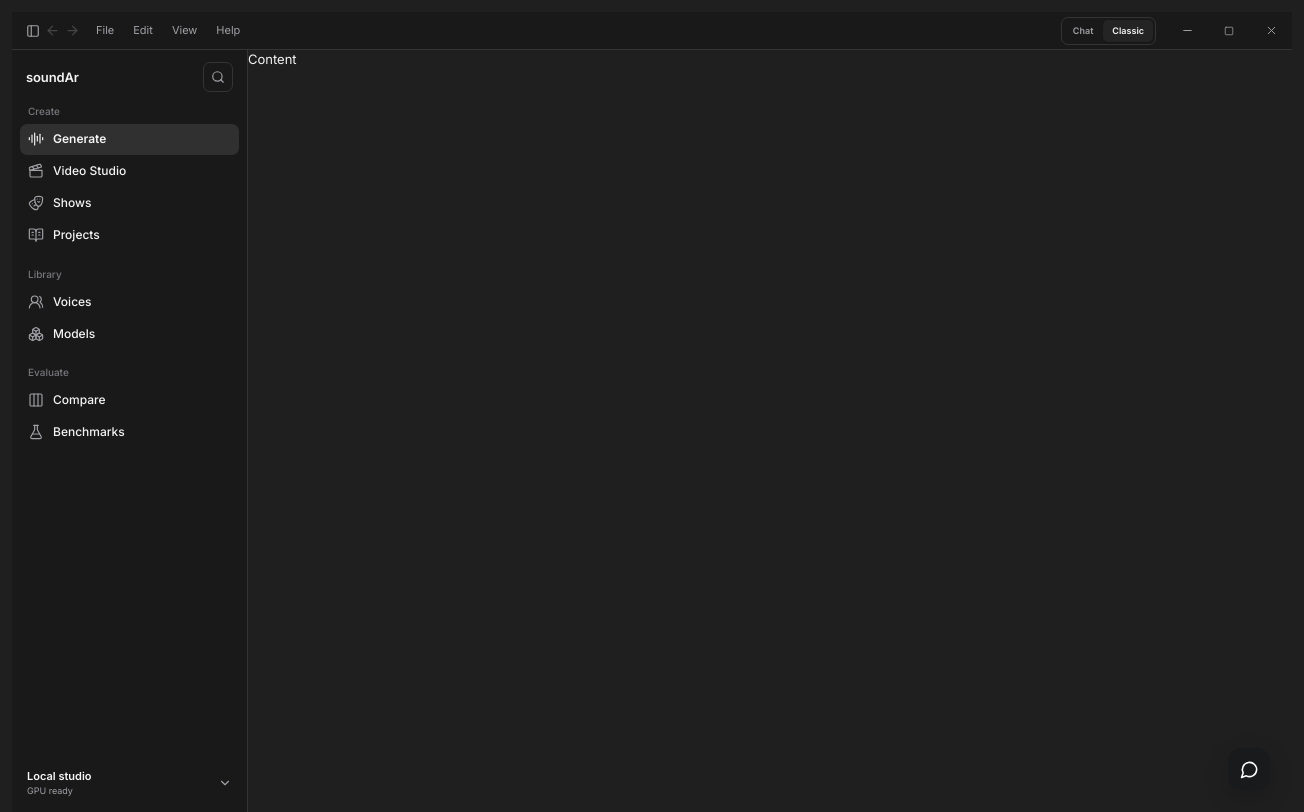
Test case: AppShell capability navigation › provides desktop menus, navigation history, and a collapsible rail
Click the button "File": click(105, 30) 88,16 -> 122,44
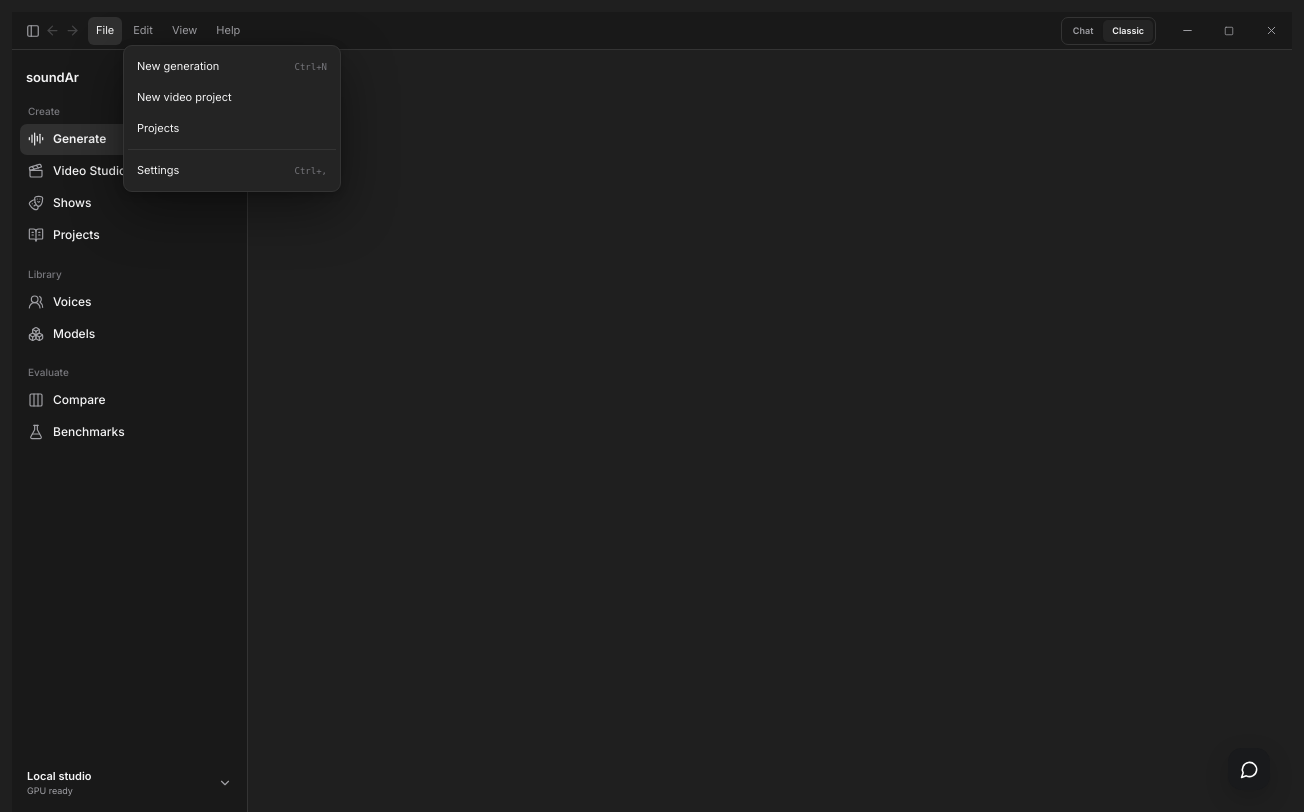
Click the menu item "Projects": click(232, 128) 129,113 -> 335,144
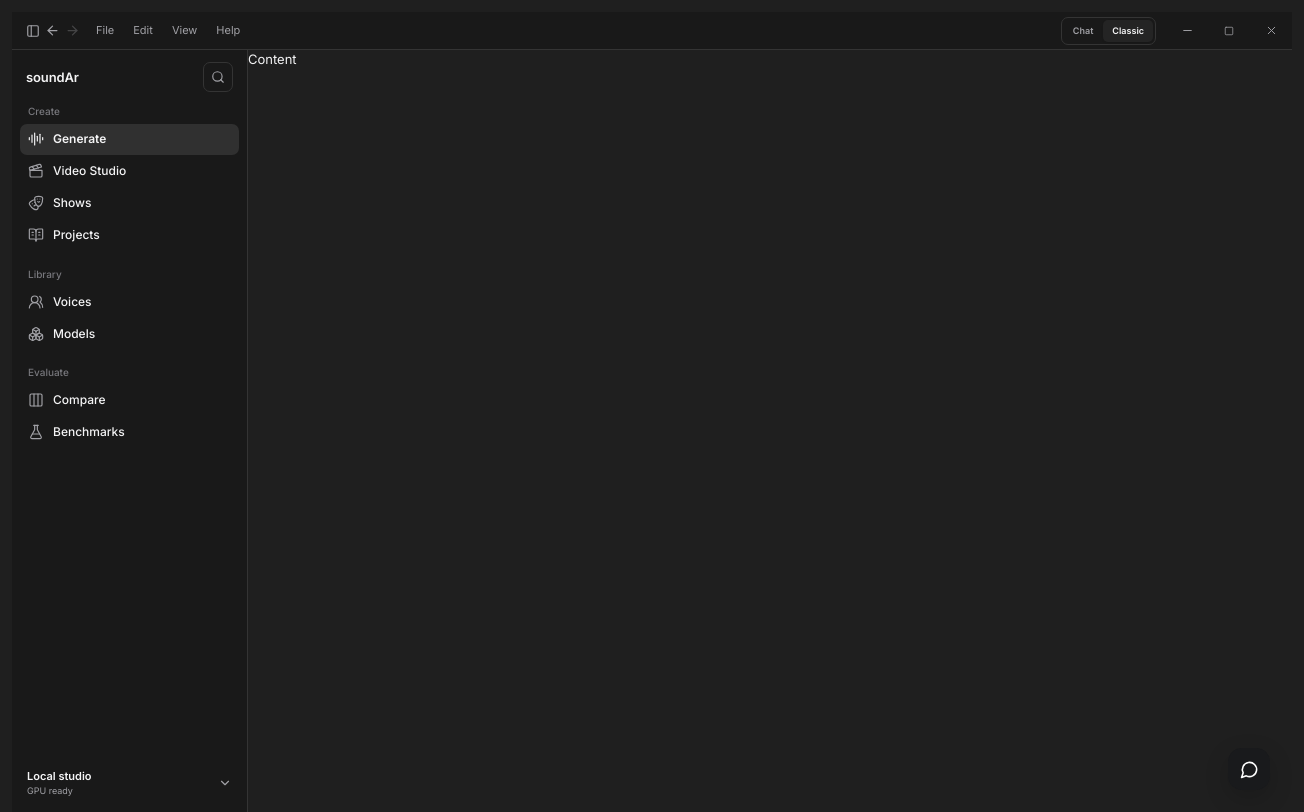
Expected: the button named "Go back" is enabled, 45,16 -> 60,44
Click the button named "Hide sidebar": click(33, 30) 26,16 -> 40,44
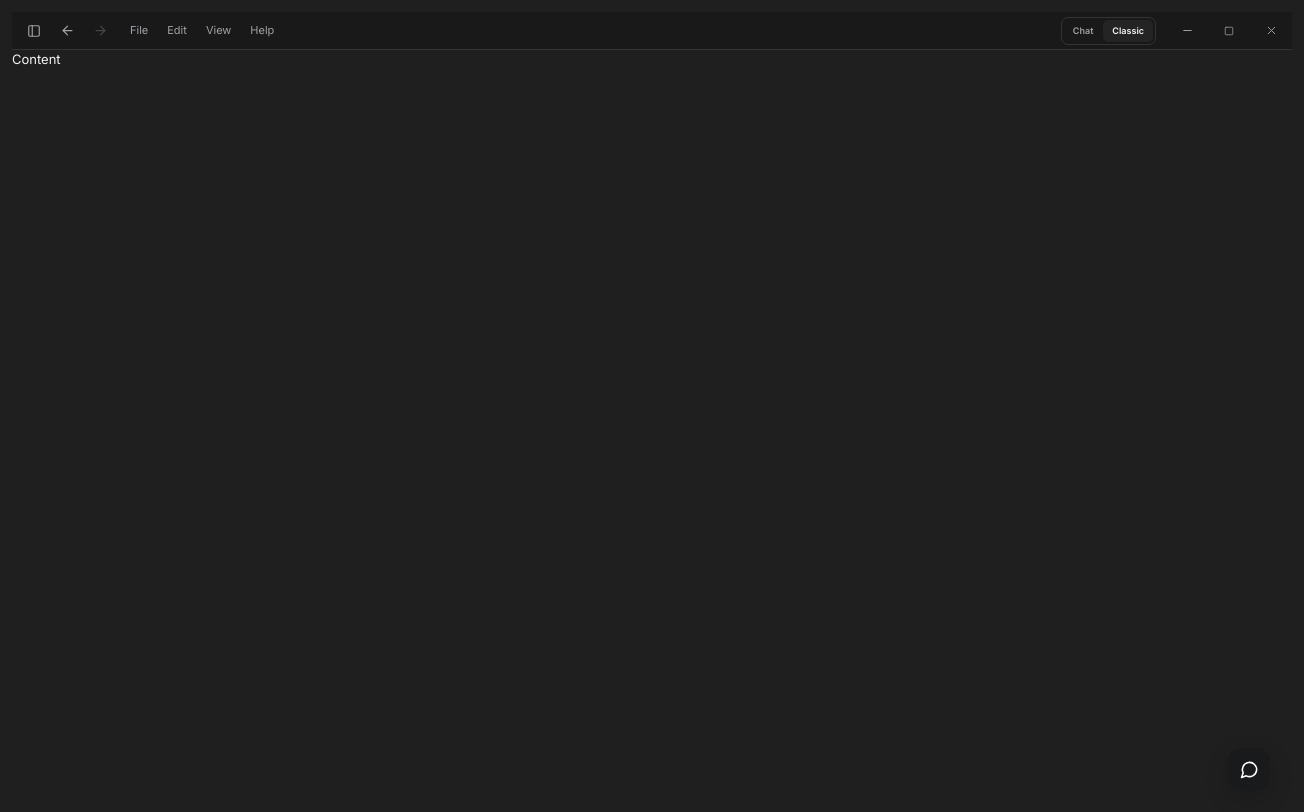
Expected: the button named "Show sidebar" is shown, 20,16 -> 48,44
